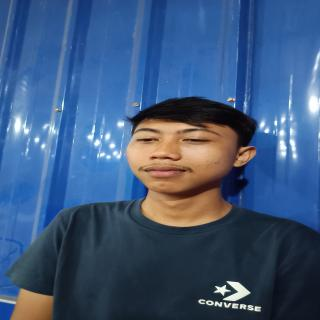Sedih: (121, 115, 239, 201)
